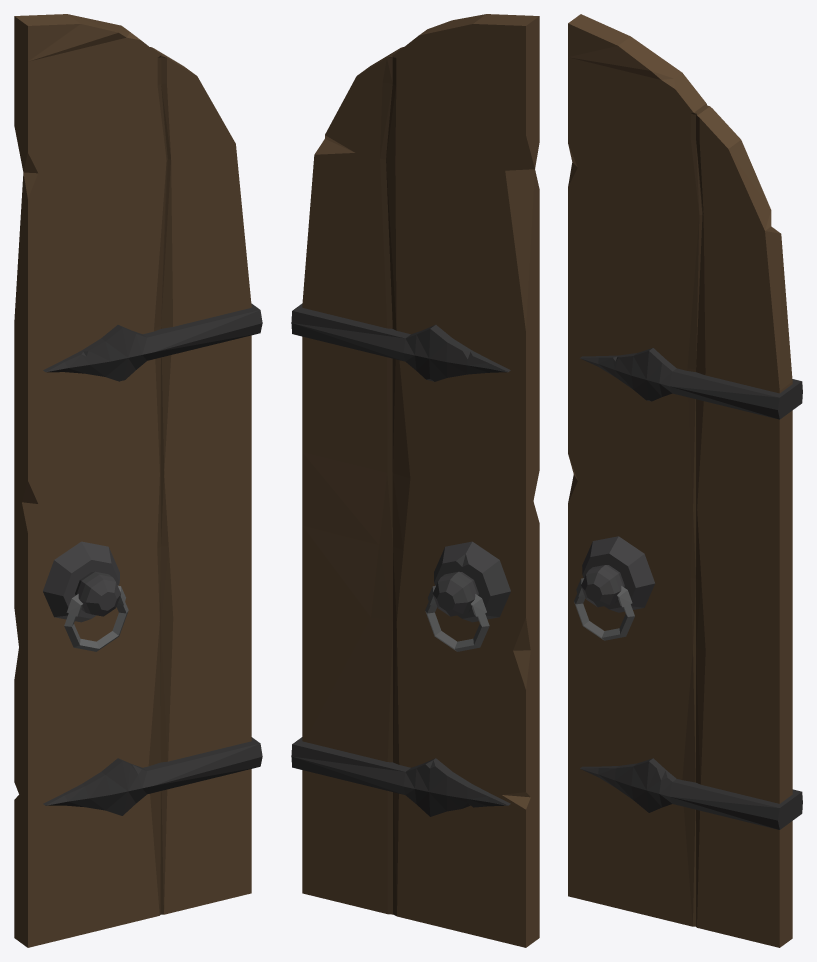
The model's file is SFHW_Building_DoorM_R.fbx.
3 views of the same model, side by side, from view 1: azimuth 30°, elevation 25°; view 2: azimuth 150°, elevation 25°; view 3: azimuth 330°, elevation 25° (orthographic). The views are drawn at different scales.
Visible parts, largest first — view 1: SFHW_Building_DoorM_R; view 2: SFHW_Building_DoorM_R; view 3: SFHW_Building_DoorM_R.
Boxes of the visible parts, x1,y1,x2,y2 form: SFHW_Building_DoorM_R: (14, 14, 262, 947); SFHW_Building_DoorM_R: (291, 14, 539, 947); SFHW_Building_DoorM_R: (568, 14, 802, 947).
Size of the model in its own units: 66.67 by 257 by 33.66.
